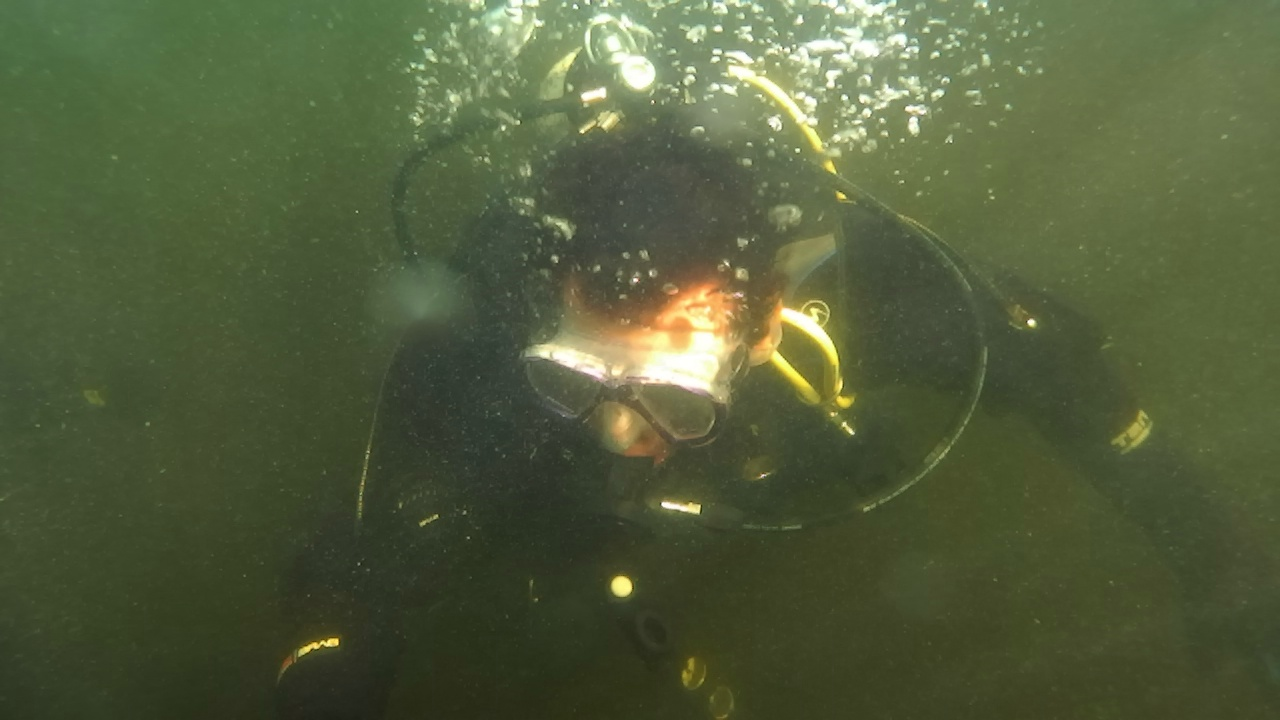Hand: (1148, 518, 1278, 708)
Head: (518, 124, 794, 502)
